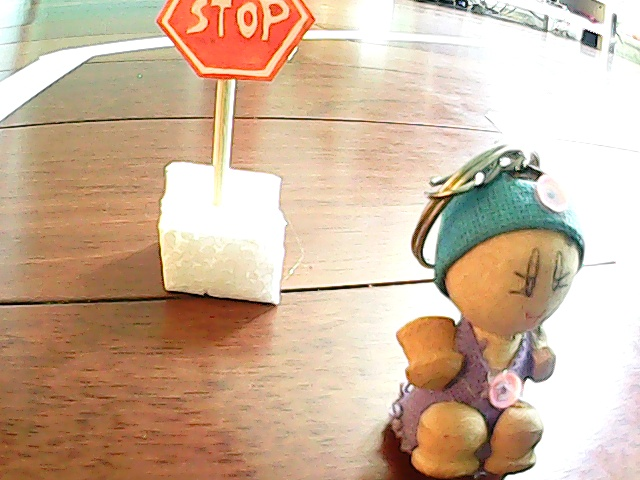pedestrain: (390, 146, 573, 479)
stop: (162, 1, 298, 298)
